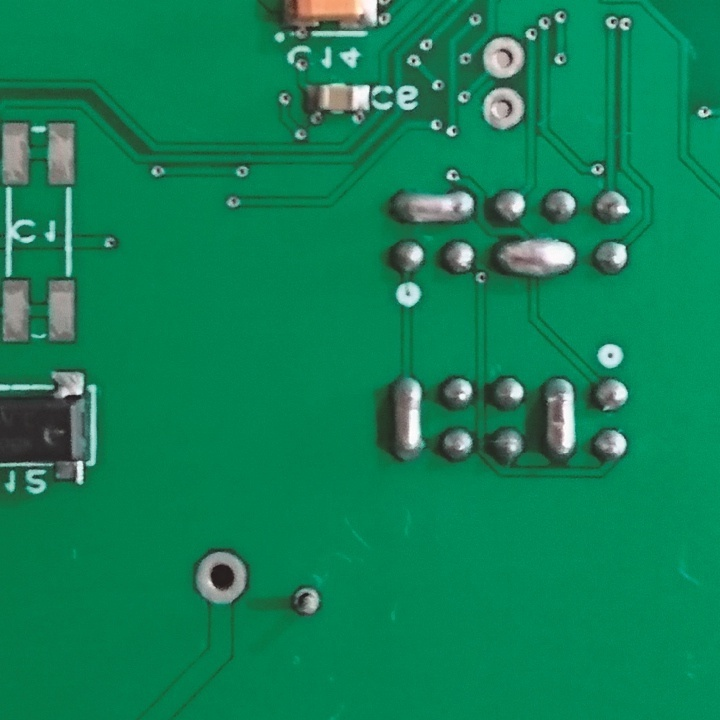F: (192, 549, 249, 605), (479, 82, 523, 135), (479, 35, 527, 80), (289, 583, 327, 615)
P: (490, 235, 582, 280), (540, 370, 579, 466), (389, 186, 476, 226), (390, 374, 427, 462)
